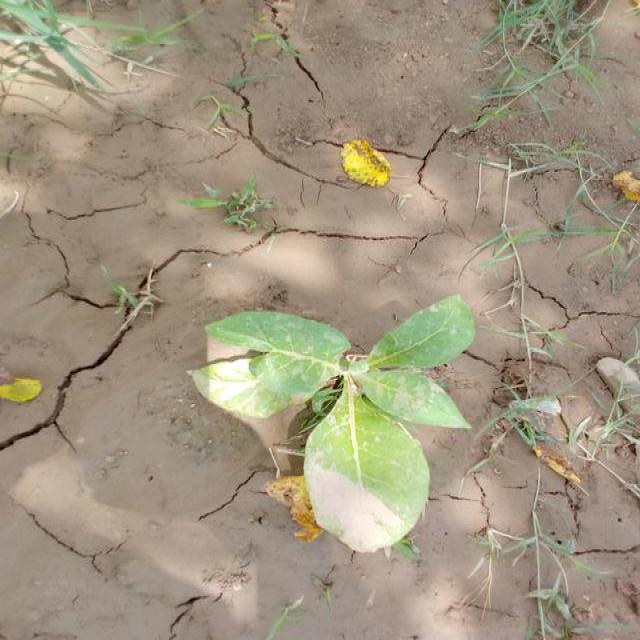crop: (198, 300, 472, 566)
